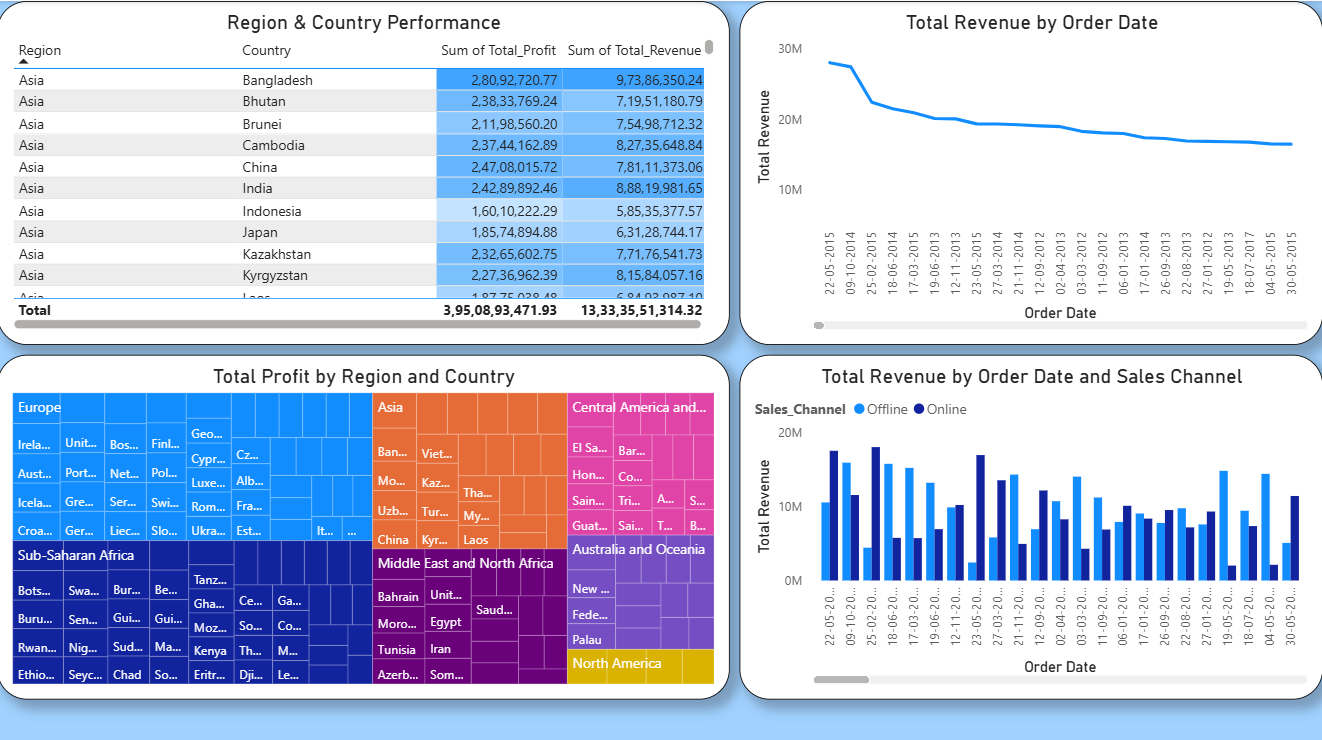

What the dashboard file says about the page in this screenshot:
{"tool":"powerbi","page":{"name":"Page 3","canvas":[1280,720],"ordinal":2},"visuals":[{"type":"tableEx","title":"Region & Country Performance","fields":{"Values":["sales_new.Region","sales_new.Country","Sum(sales_new.Total_Profit)","Sum(sales_new.Total_Revenue)"]},"box":[0,0,707,331.8],"z":3},{"type":"treemap","fields":{"Group":["sales_new.Region"],"Details":["sales_new.Country"],"Values":["sales_new.Total Profit"]},"box":[0,341.4,707,333],"z":4},{"type":"lineChart","fields":{"Category":["sales_new.Order_Date"],"Y":["sales_new.Total Revenue"]},"box":[716.6,0,563.4,331.8],"z":5},{"type":"lineClusteredColumnComboChart","title":"Total Revenue by Order Date and Sales Channel","fields":{"Category":["sales_new.Order_Date"],"Y":["sales_new.Total Revenue"],"Series":["sales_new.Sales_Channel"]},"box":[717,341,563,333],"z":6}]}

Visuals, with their boxes in screenshot pixels (x1, y1, x2, y2), scaled from the page's 1280x720 canvas onto the 1322x740 screenshot:
"Region & Country Performance" tableEx: 0,0,730,341
treemap - sales_new.Region x sales_new.Country: 0,351,730,693
lineChart - sales_new.Order_Date x sales_new.Total Revenue: 740,0,1321,341
"Total Revenue by Order Date and Sales Channel" lineClusteredColumnComboChart: 741,350,1321,693
